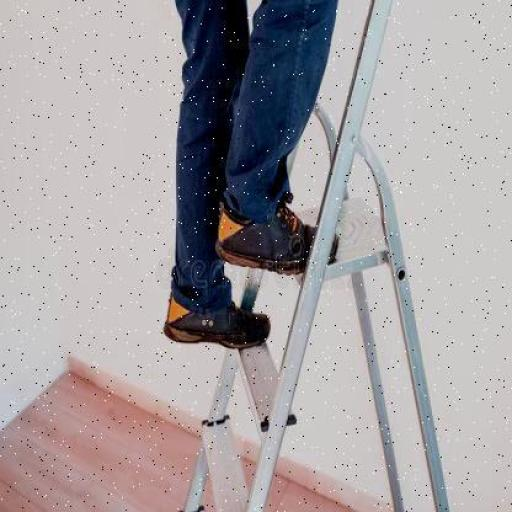safety_shoe: (218, 204, 342, 271), (166, 291, 267, 349)
